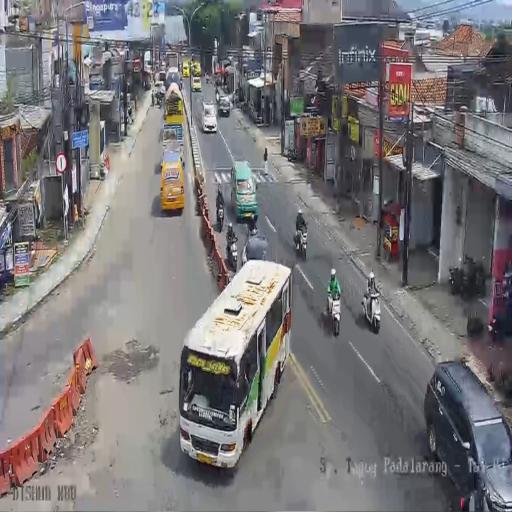car: (424, 360, 512, 508), (159, 146, 185, 212), (232, 160, 258, 223), (202, 102, 218, 132), (216, 90, 231, 118), (192, 75, 202, 92), (192, 60, 202, 76), (182, 60, 190, 77), (158, 66, 166, 82)
truck: (326, 286, 342, 337), (294, 220, 308, 260), (284, 144, 298, 162), (205, 71, 211, 84)
